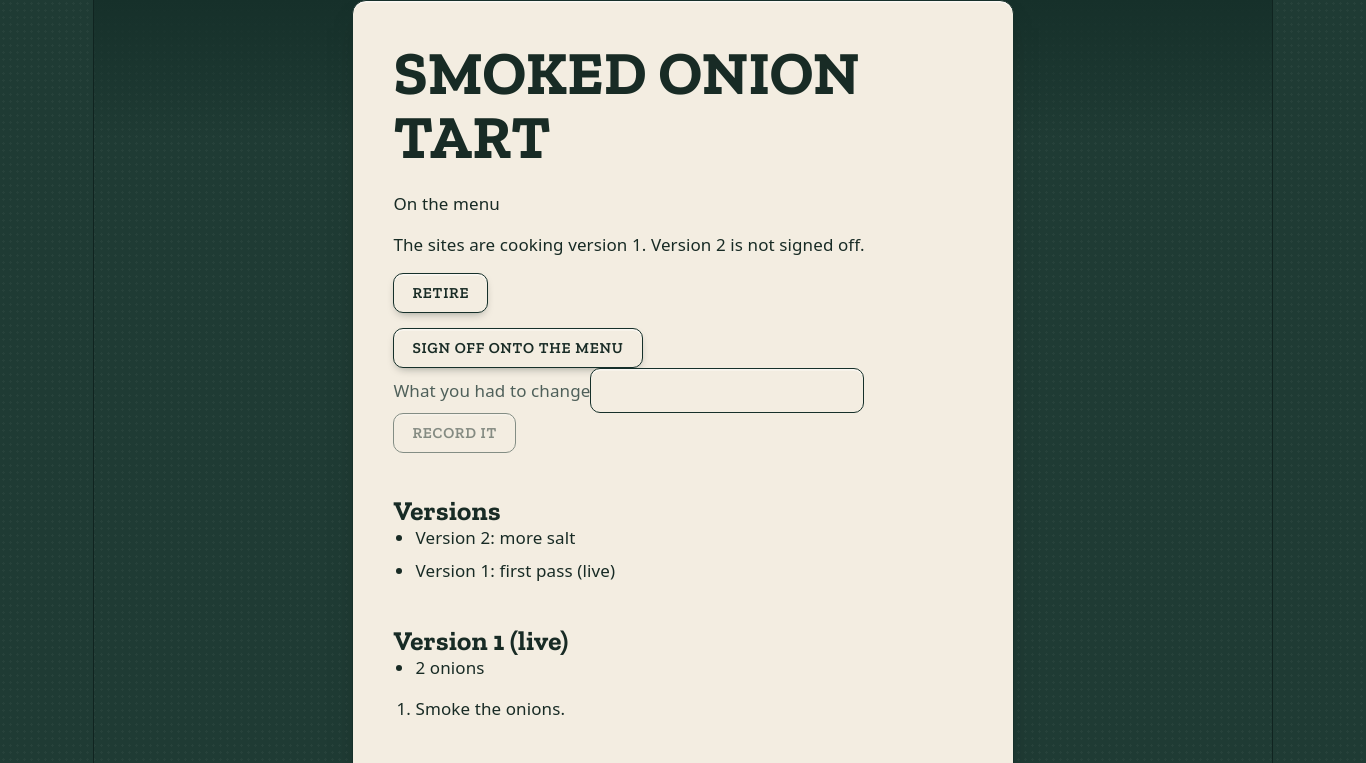
Test: retiring a dish › shows the database's refusal rather than swallowing it
Click the button "Retire" at (441, 292), box x1=393 y1=272 x2=488 y2=312
(page scrolled)
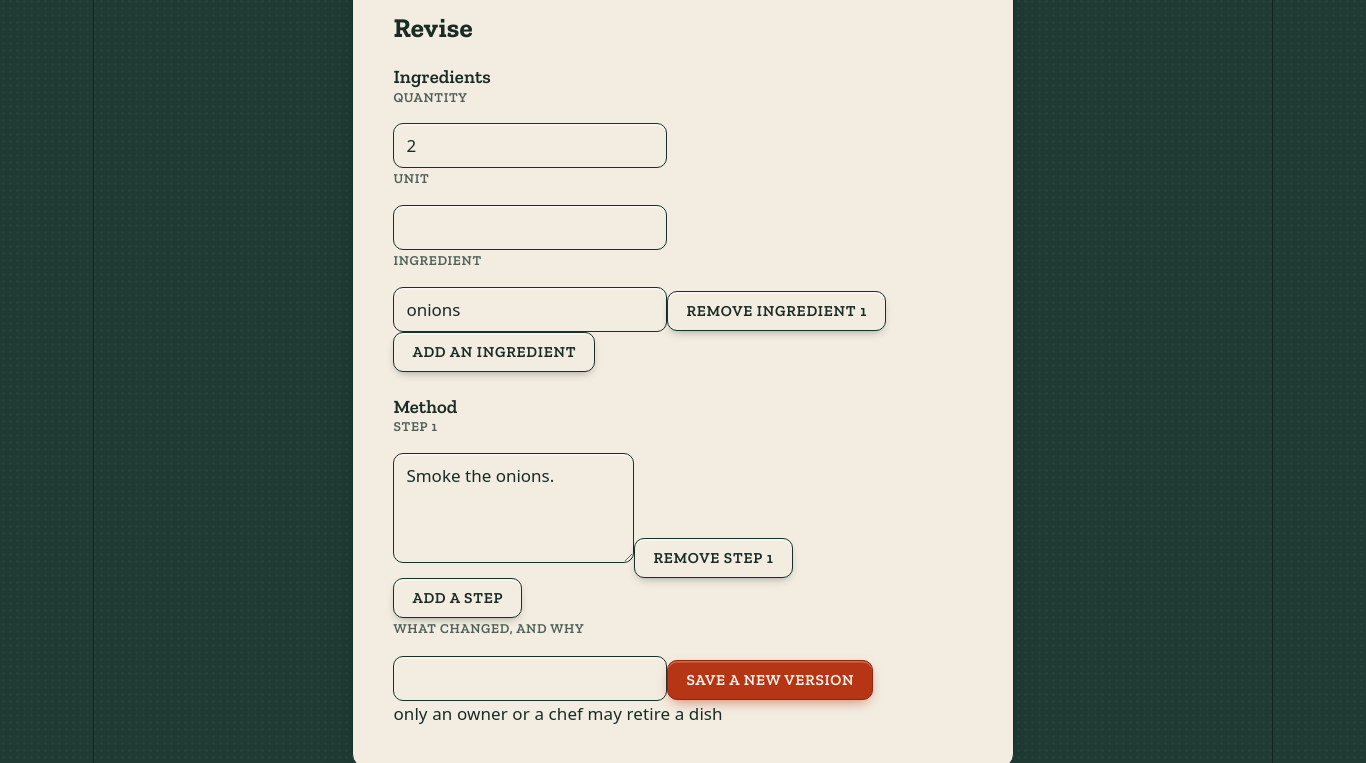
Expected: the message reads "only an owner or a chef may retire a dish", x1=393 y1=702 x2=723 y2=725
